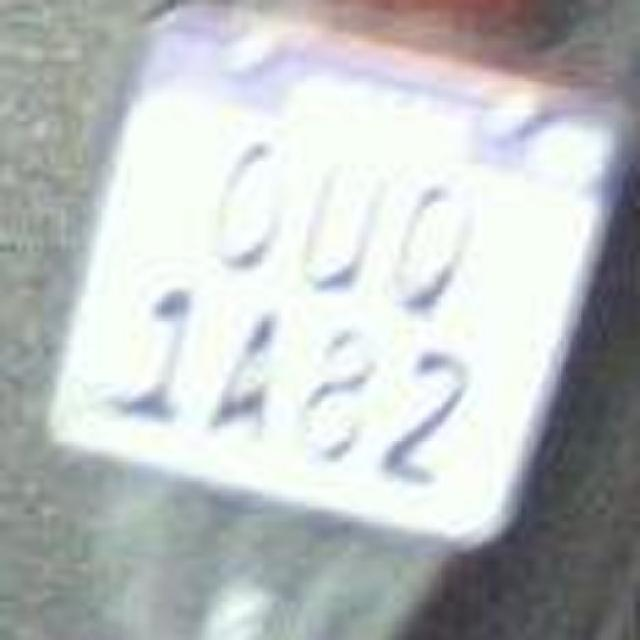2: (356, 312, 496, 500)
3: (0, 472, 165, 636)
4: (184, 276, 304, 456)
O: (189, 104, 296, 288), (375, 160, 480, 308)
U: (264, 120, 404, 308)
